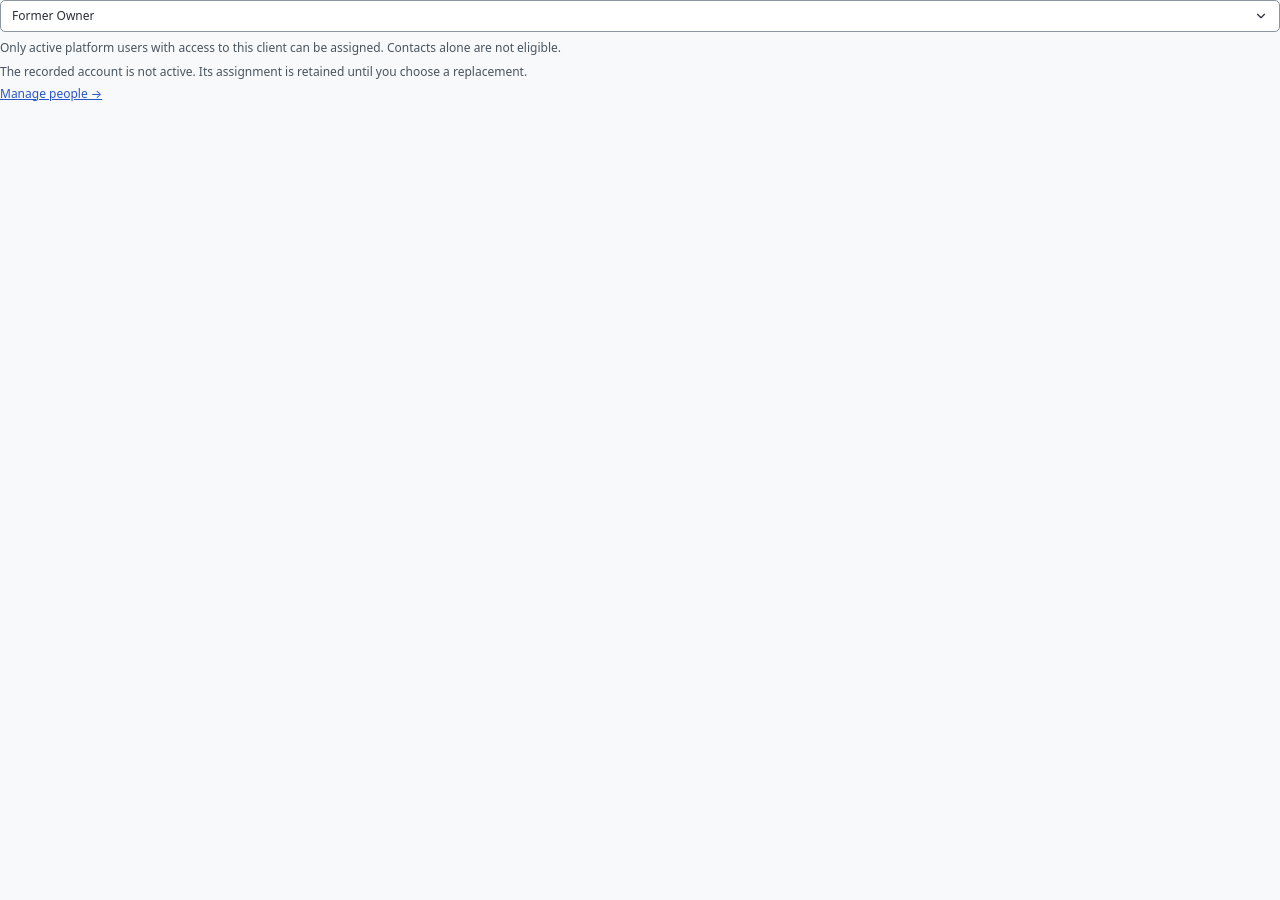
Scenario: loads only authorized candidate endpoint and keeps historical lookup out of choices
The width and height of the screenshot is (1280, 900).
Later steps or results of the test are not shown.
Click the button "Former Owner".
click(53, 16)  # box [0,0,1279,32]
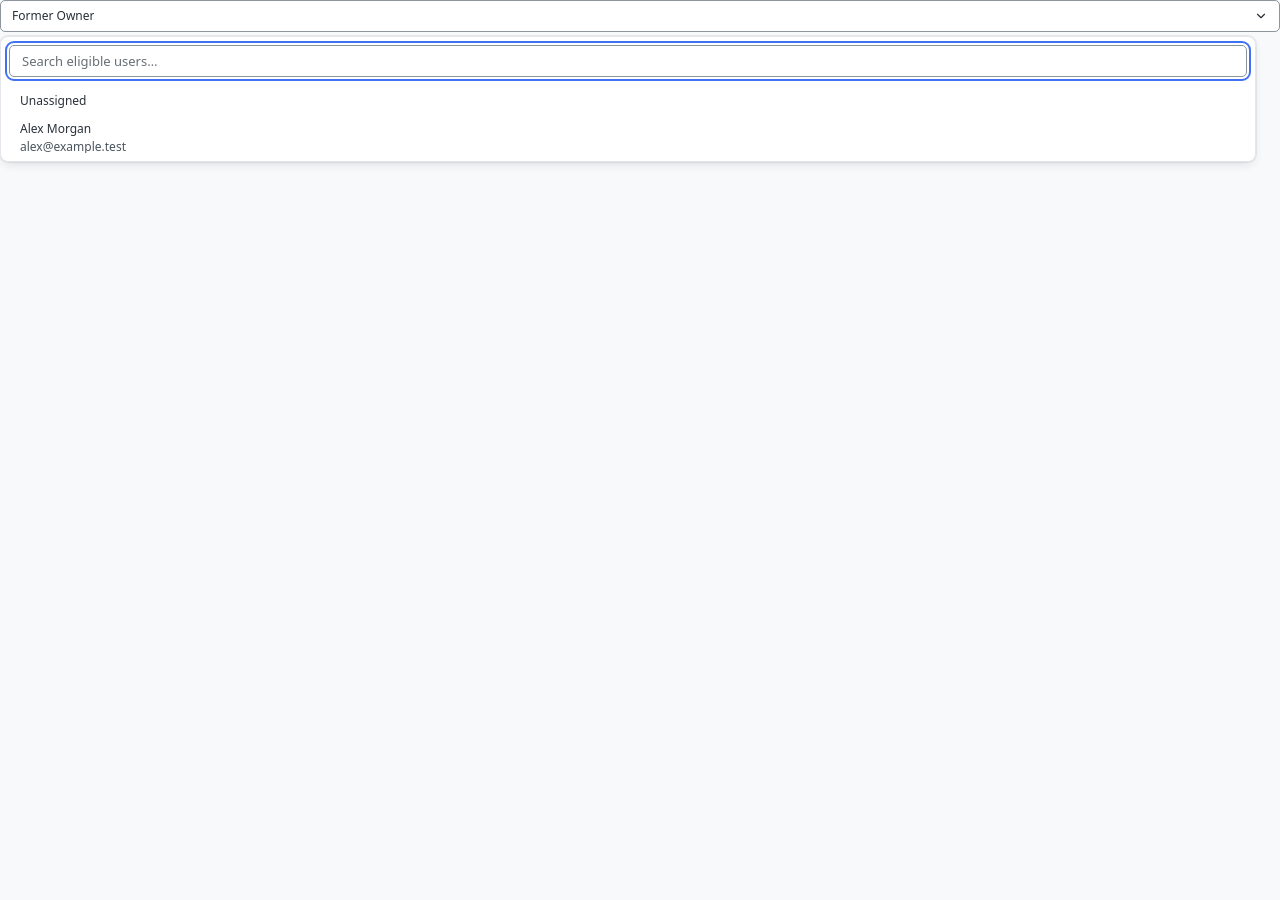
Expected: the text "Former Owner" is not shown
Result: the dialog shows "Alex Morgan" at [9,121,1247,153]
